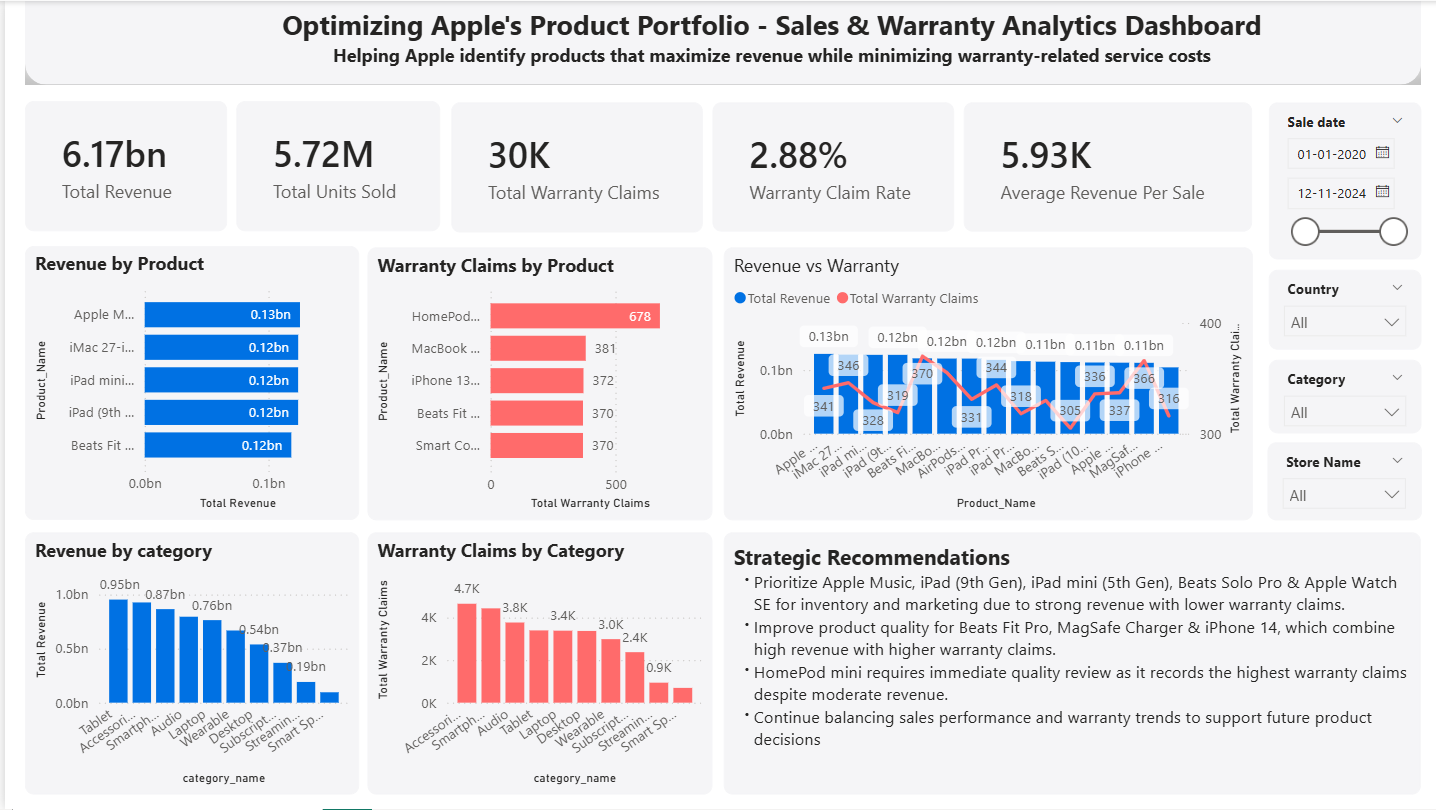

The dashboard page shown, as its layout file describes it:
{"tool":"powerbi","page":{"name":"Apple-Product-Portfolio-Optimization ","canvas":[1280,720],"ordinal":0},"visuals":[{"type":"shape","box":[17.8,0,1243.4,74.6],"z":0},{"type":"textbox","box":[146.9,0,1072,74.6],"z":1000},{"type":"cardVisual","fields":{"Data":["category.Total Revenue"]},"box":[17.8,89.1,180.3,115.8],"z":2000},{"type":"cardVisual","fields":{"Data":["category.Total Units Sold"]},"box":[205.9,89.1,181.4,115.8],"z":3000},{"type":"cardVisual","fields":{"Data":["category.Total Warranty Claims"]},"box":[397.4,90.2,223.7,115.8],"z":4000},{"type":"cardVisual","fields":{"Data":["category.Warranty Claim Rate"]},"box":[630.2,90.7,215.1,115.1],"z":5000},{"type":"cardVisual","fields":{"Data":["category.Average Revenue Per Sale"]},"box":[853.5,90.7,257,115.1],"z":6000},{"type":"clusteredBarChart","title":"Revenue by Product","fields":{"Category":["products.Product_Name"],"Y":["category.Total Revenue"]},"box":[17.8,218.2,297.2,243.8],"z":7000},{"type":"clusteredBarChart","title":"Warranty Claims by Product","fields":{"Category":["products.Product_Name"],"Y":["category.Total Warranty Claims"]},"box":[323.3,219.8,307,243],"z":8000},{"type":"clusteredColumnChart","title":"Revenue by category","fields":{"Category":["category.category_name"],"Y":["category.Total Revenue"]},"box":[17.8,473.1,297.2,233.8],"z":9000},{"type":"clusteredColumnChart","title":"Warranty Claims by Category","fields":{"Category":["category.category_name"],"Y":["category.Total Warranty Claims"]},"box":[322.8,473.1,307.2,233.8],"z":10000},{"type":"slicer","fields":{"Values":["category.category_name"]},"box":[1125.4,319.5,135.8,65.7],"z":11000},{"type":"slicer","fields":{"Values":["stores.Country"]},"box":[1125.4,239.3,135.8,71.2],"z":12000},{"type":"slicer","fields":{"Values":["stores.Store_Name"]},"box":[1124.4,393,137.2,69.8],"z":13000},{"type":"slicer","fields":{"Values":["sales.sale_date"]},"box":[1125.4,90.2,135.8,140.3],"z":14000},{"type":"textbox","box":[640.1,473.1,621.2,233.8],"z":15000},{"type":"lineClusteredColumnComboChart","title":"Revenue vs Warranty","fields":{"Category":["products.Product_Name"],"Y":["category.Total Revenue"],"Y2":["category.Total Warranty Claims"]},"box":[639.5,219.8,470.9,243],"z":16000}]}

Visuals, with their boxes in screenshot pixels (x1, y1, x2, y2), scaled from the page's 1280x720 canvas onto the 1436x810 screenshot:
shape: l=20, t=0, r=1415, b=84
textbox: l=165, t=0, r=1367, b=84
cardVisual - category.Total Revenue: l=20, t=100, r=222, b=231
cardVisual - category.Total Units Sold: l=231, t=100, r=435, b=231
cardVisual - category.Total Warranty Claims: l=446, t=101, r=697, b=232
cardVisual - category.Warranty Claim Rate: l=707, t=102, r=948, b=232
cardVisual - category.Average Revenue Per Sale: l=958, t=102, r=1246, b=232
"Revenue by Product" clusteredBarChart: l=20, t=245, r=353, b=520
"Warranty Claims by Product" clusteredBarChart: l=363, t=247, r=707, b=521
"Revenue by category" clusteredColumnChart: l=20, t=532, r=353, b=795
"Warranty Claims by Category" clusteredColumnChart: l=362, t=532, r=707, b=795
slicer - category.category_name: l=1263, t=359, r=1415, b=433
slicer - stores.Country: l=1263, t=269, r=1415, b=349
slicer - stores.Store_Name: l=1261, t=442, r=1415, b=521
slicer - sales.sale_date: l=1263, t=101, r=1415, b=259
textbox: l=718, t=532, r=1415, b=795
"Revenue vs Warranty" lineClusteredColumnComboChart: l=717, t=247, r=1246, b=521
